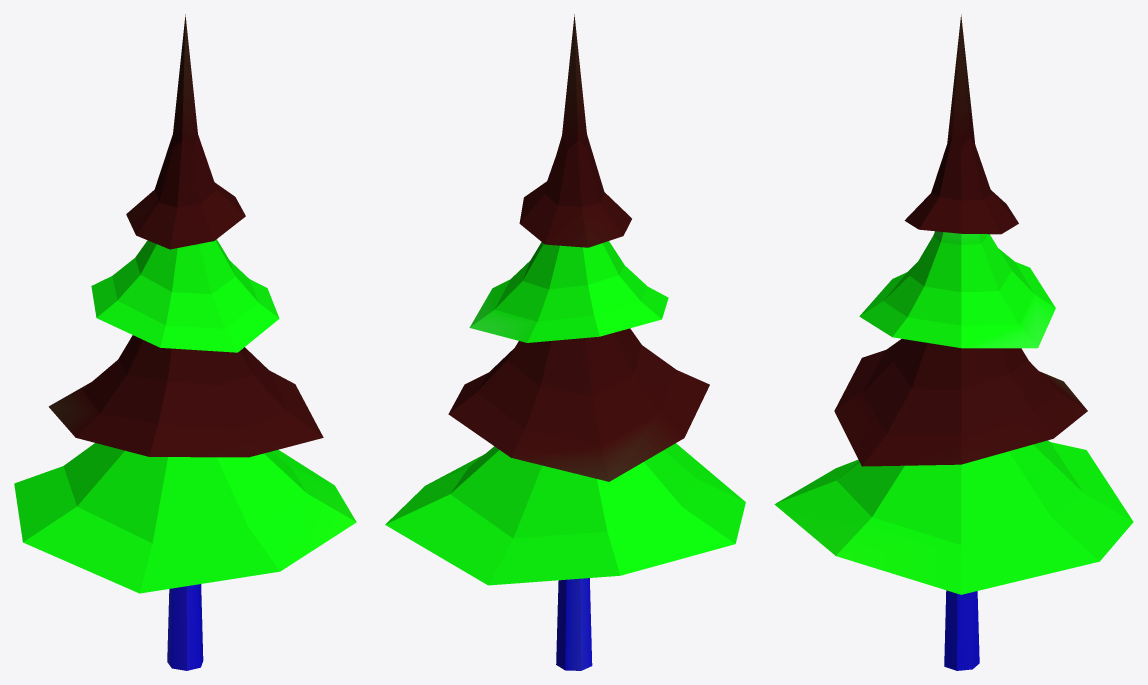
File: tree.fbx
3 renders of one model, left to right at view 1: azimuth 30°, elevation 25°; view 2: azimuth 150°, elevation 25°; view 3: azimuth 270°, elevation 25°, orthographic.
Parts seen in each view (by area): view 1: Tree; view 2: Tree; view 3: Tree.
Part boxes in pixels (<box>): Tree: <box>14,14,356,670</box>; Tree: <box>385,14,745,670</box>; Tree: <box>774,14,1133,670</box>.
Bounding box in the file's own units: 198 × 394 × 198.
